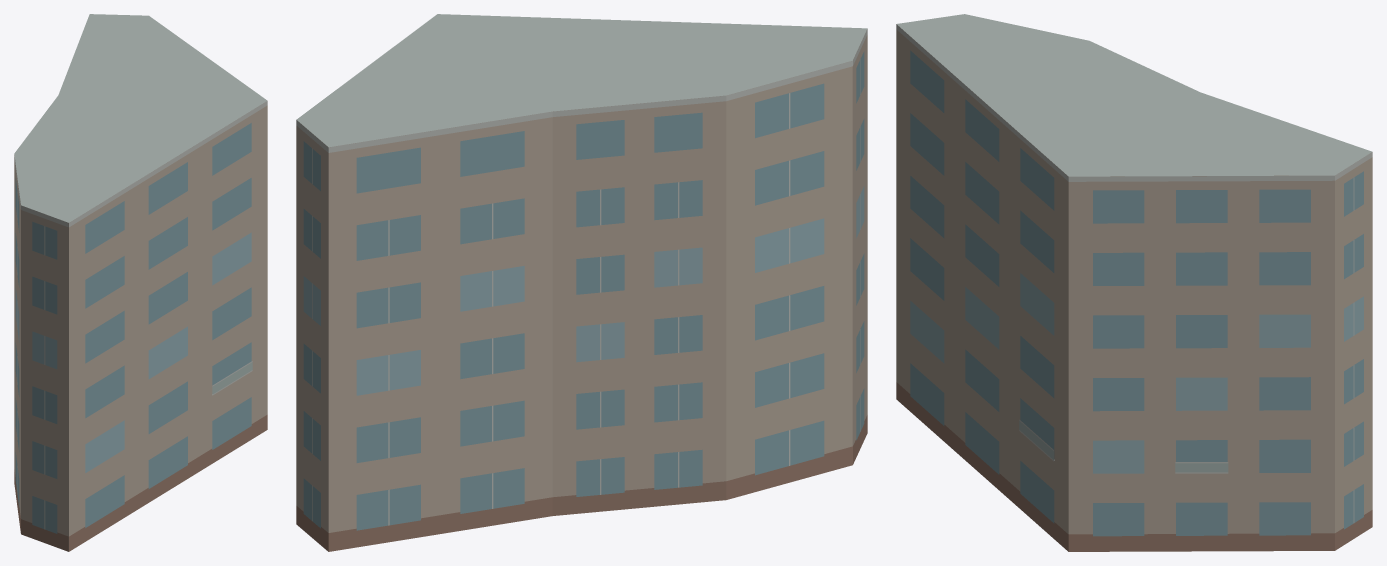
The model's file is survey-upis-32666756.glb.
3 renders of one model, left to right at view 1: azimuth 30°, elevation 25°; view 2: azimuth 150°, elevation 25°; view 3: azimuth 270°, elevation 25°, orthographic. The views are drawn at different scales.
Visible parts, largest first — view 1: survey-upis-32666756.tmp; view 2: survey-upis-32666756.tmp; view 3: survey-upis-32666756.tmp.
Part boxes in pixels (box(x1,y1,x2,y2)): survey-upis-32666756.tmp: box(14, 14, 267, 551); survey-upis-32666756.tmp: box(296, 14, 867, 551); survey-upis-32666756.tmp: box(896, 14, 1372, 551).
Size of the model in its own units: 16.18 by 17.4 by 20.03.
